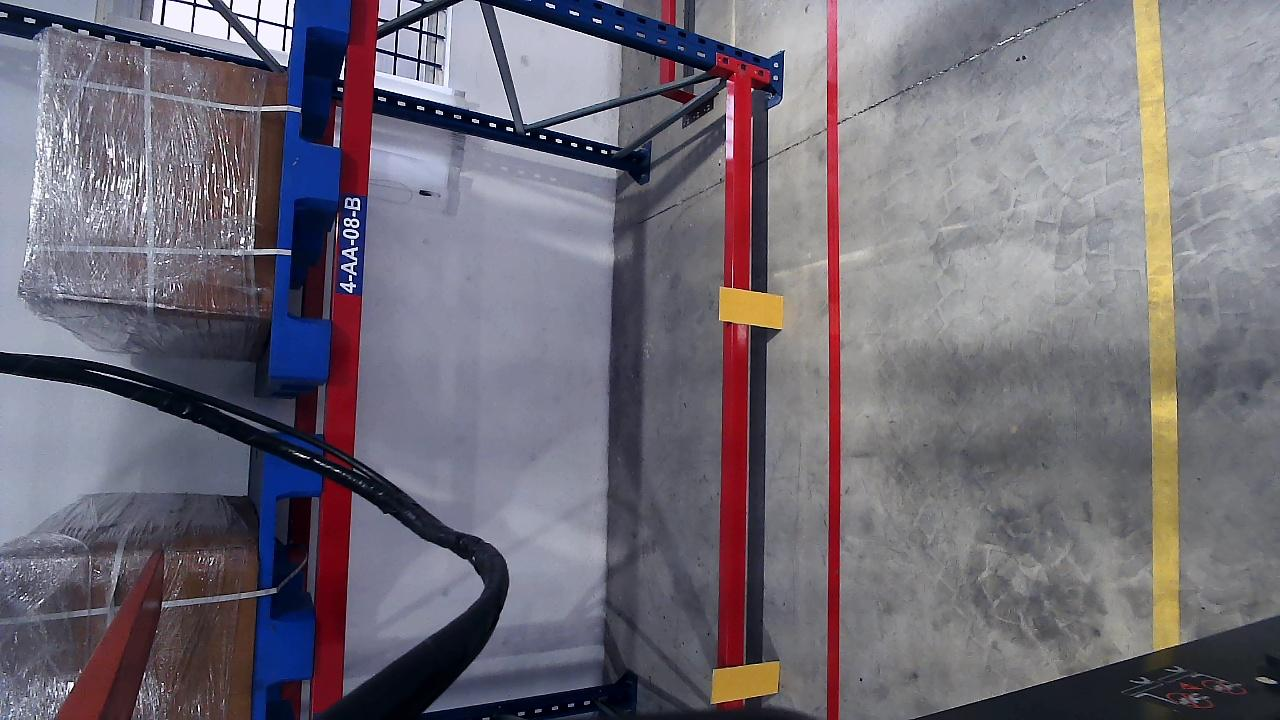h_rack: (318, 0, 381, 715), (725, 76, 759, 636)
orange_strip: (711, 660, 780, 702), (719, 285, 784, 328)
red_line: (822, 0, 844, 720)
small_pallet: (269, 0, 354, 378), (247, 431, 325, 716)
yellow_line: (1135, 0, 1181, 645)
